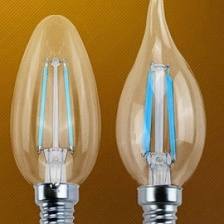light_bulb: (109, 0, 209, 224), (7, 9, 102, 223)
